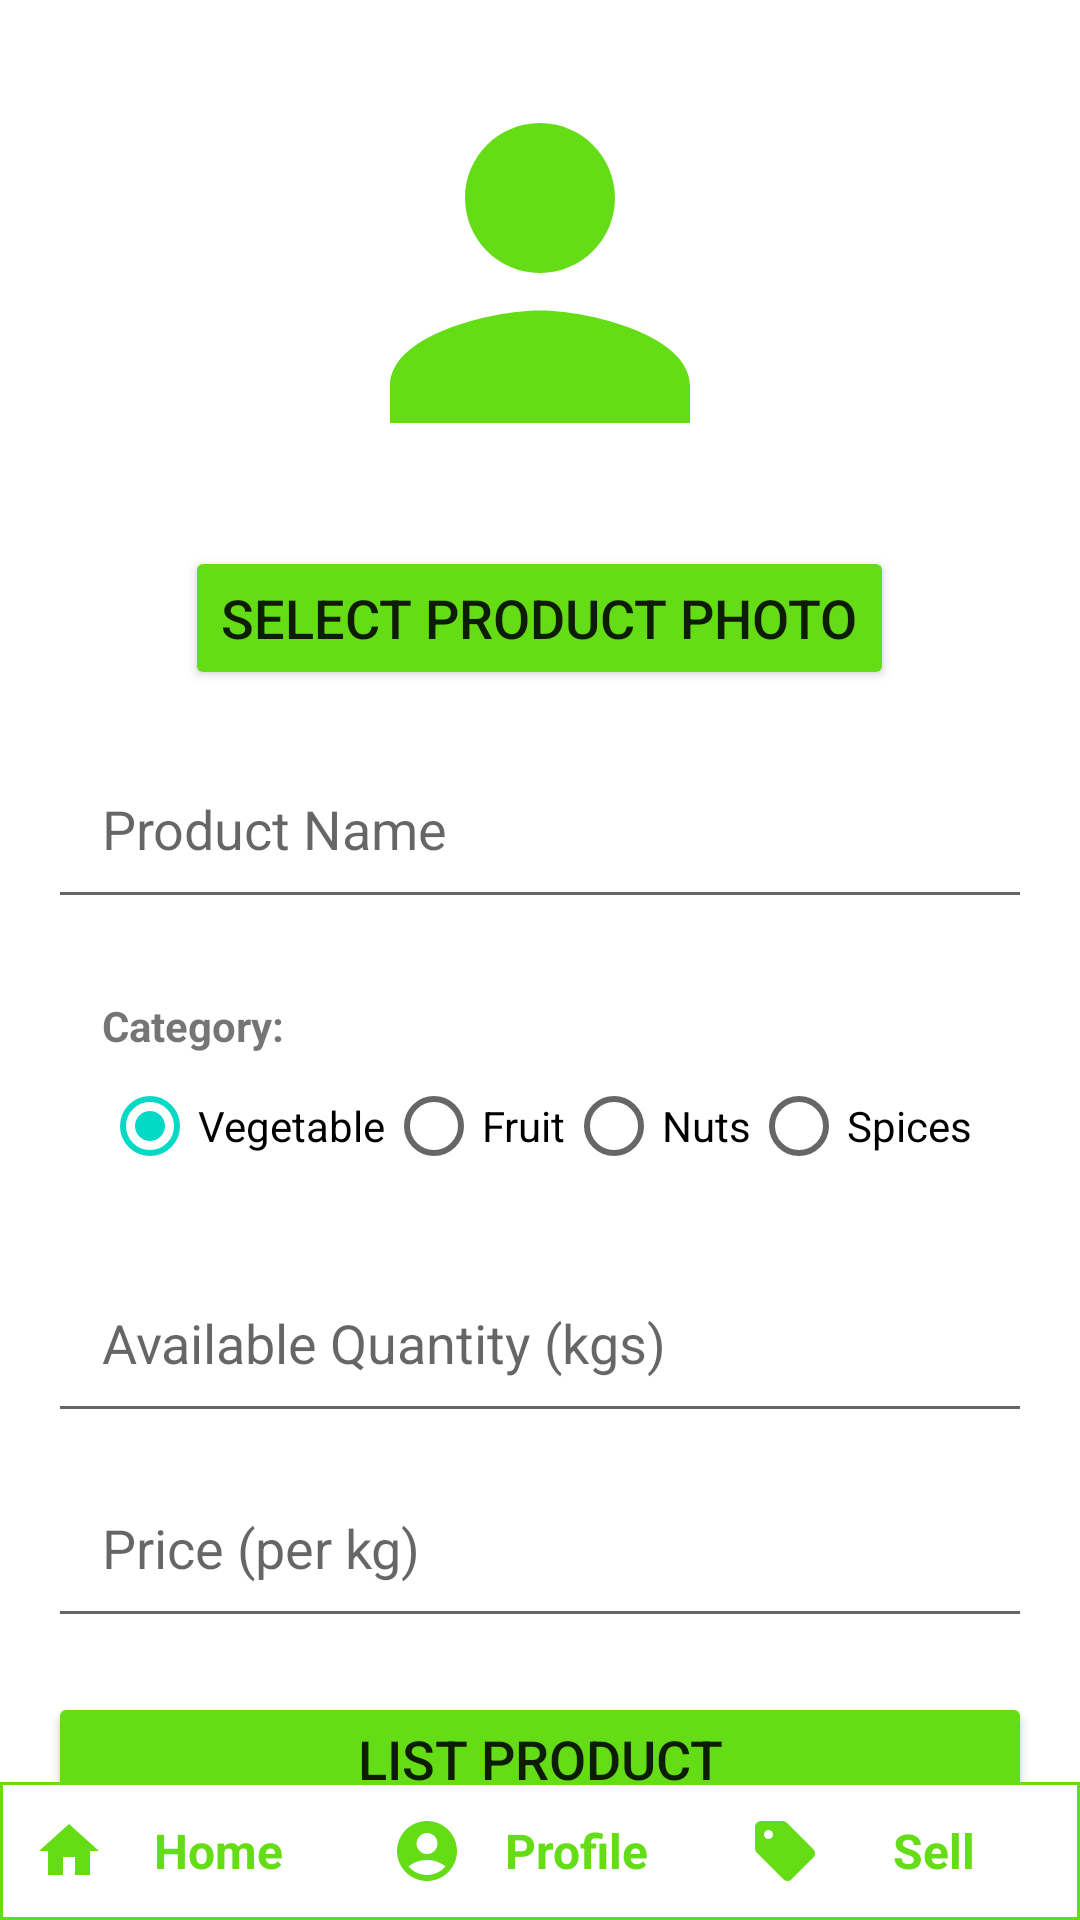

Where to tap for icons on this 1080px x 1920px app screen, as [x,y]:
person: [540,273]
